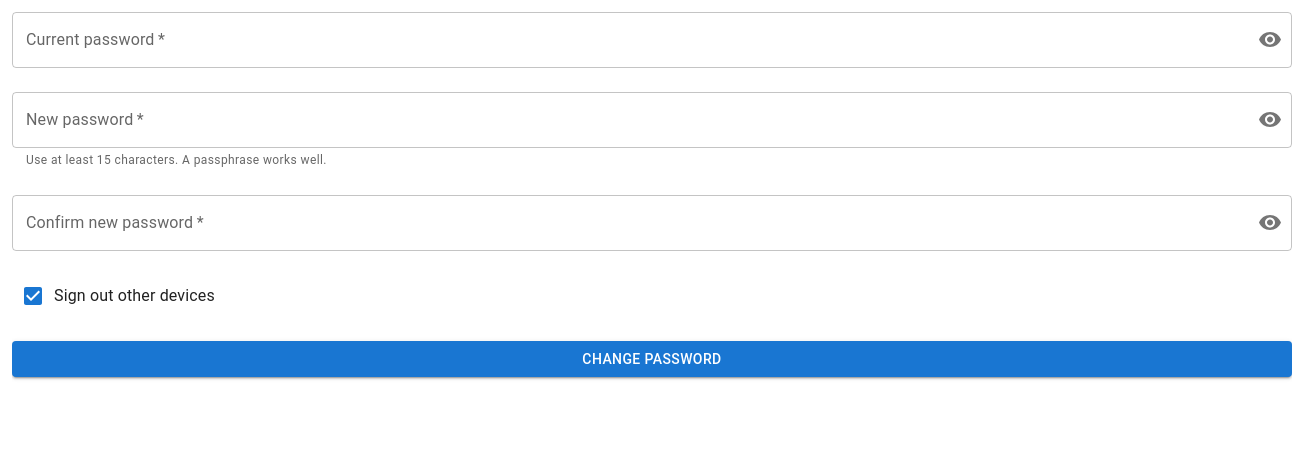
Test: customer change-password form › lets the customer retain other sessions and blocks mismatched confirmation
Click the checkbox labelled "Sign out other devices" at x=118, y=296, box [21, 284, 215, 308]
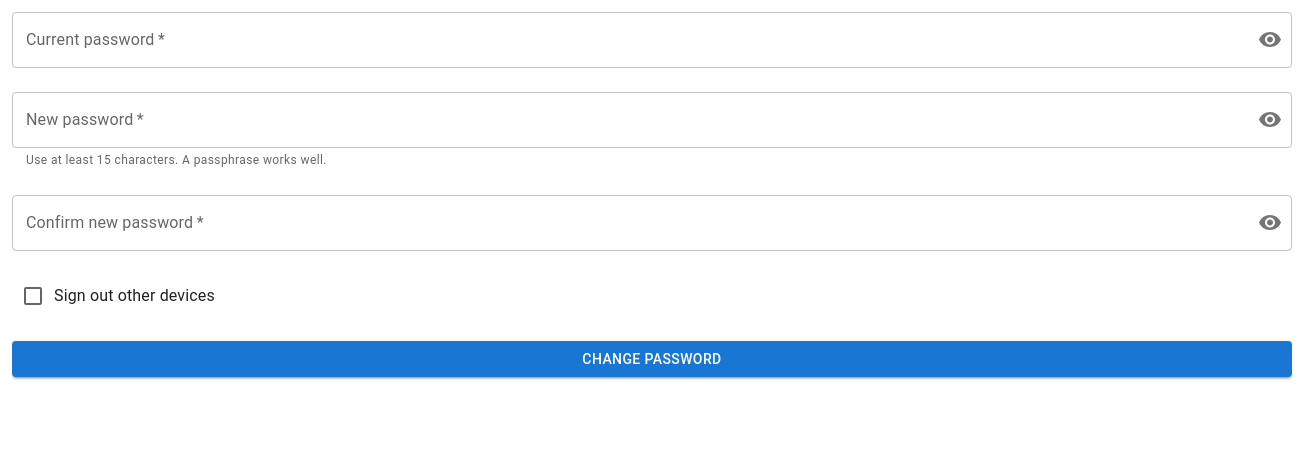
Type "A strong customer passphrase 2026" into the password field labelled "Current password *" at x=627, y=40, box [12, 12, 1242, 68]
Type "A different secure passphrase 2026" into the password field labelled "New password *" at x=627, y=120, box [12, 92, 1242, 148]
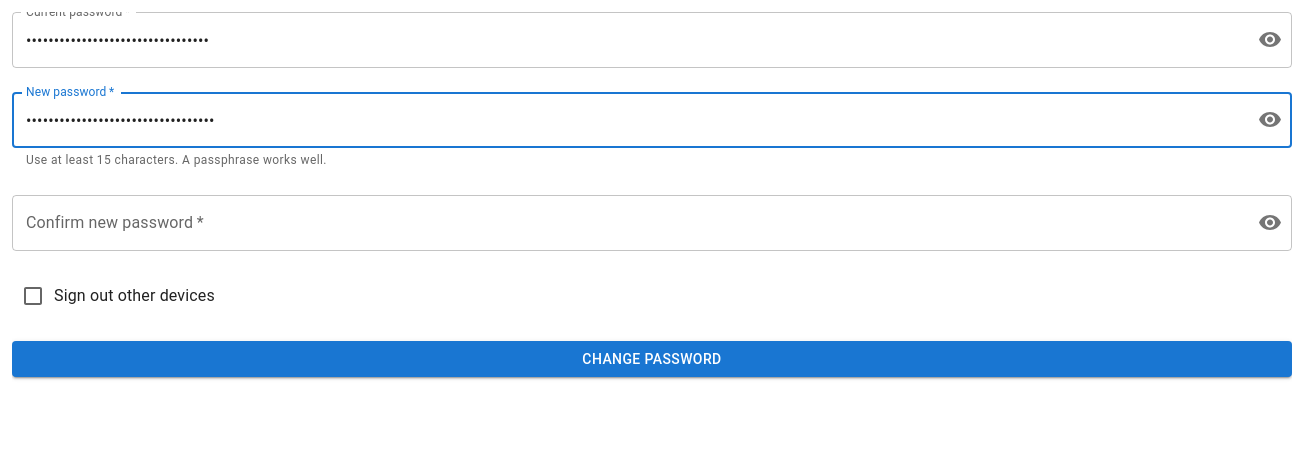
Type "A mismatched secure passphrase" into the password field labelled "Confirm new password *" at x=627, y=223, box [12, 195, 1242, 251]
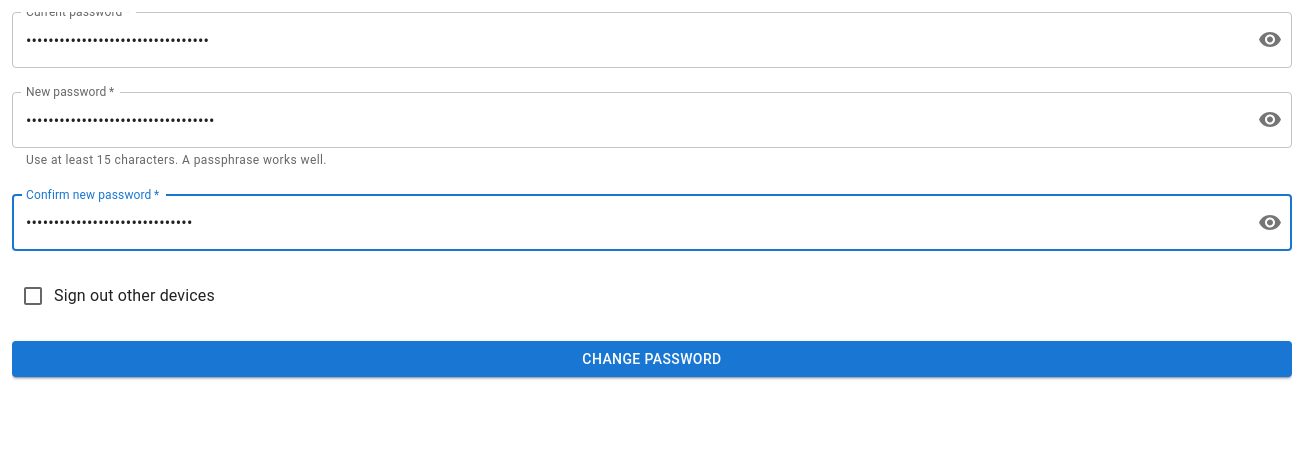
Click the button "Change password" at x=652, y=359, box [12, 341, 1292, 377]
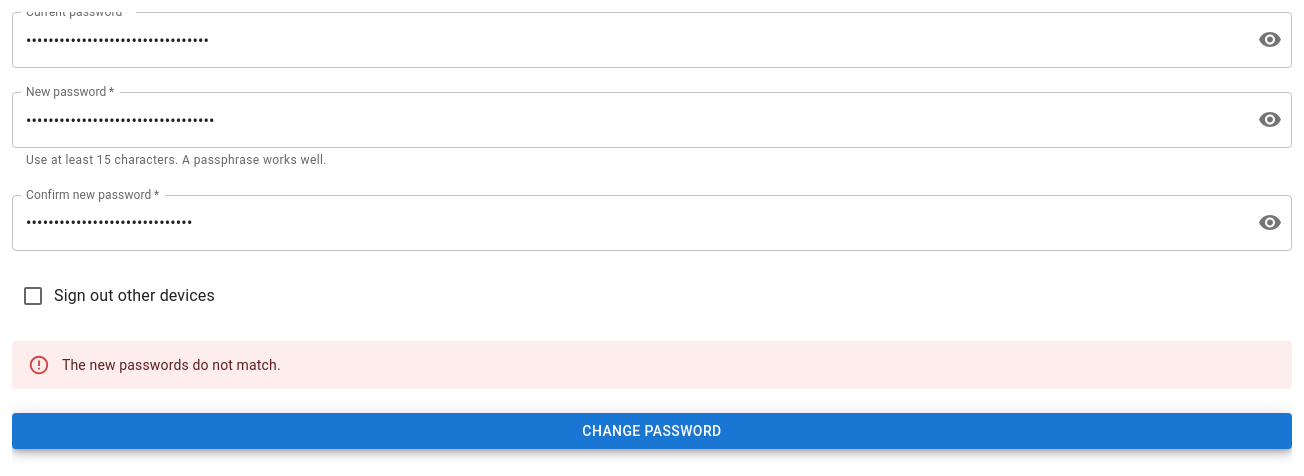
Check: the message shows "do not match", box [62, 357, 281, 373]
Type "A different secure passphrase 2026" into the password field labelled "Confirm new password *" at x=627, y=223, box [12, 195, 1242, 251]
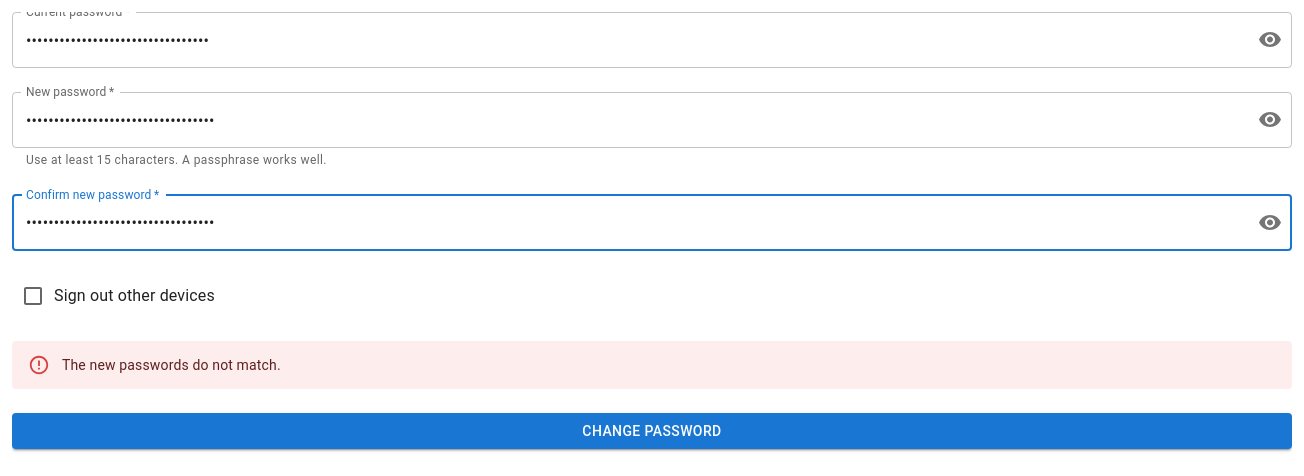
Click the button "Change password" at x=652, y=431, box [12, 413, 1292, 449]
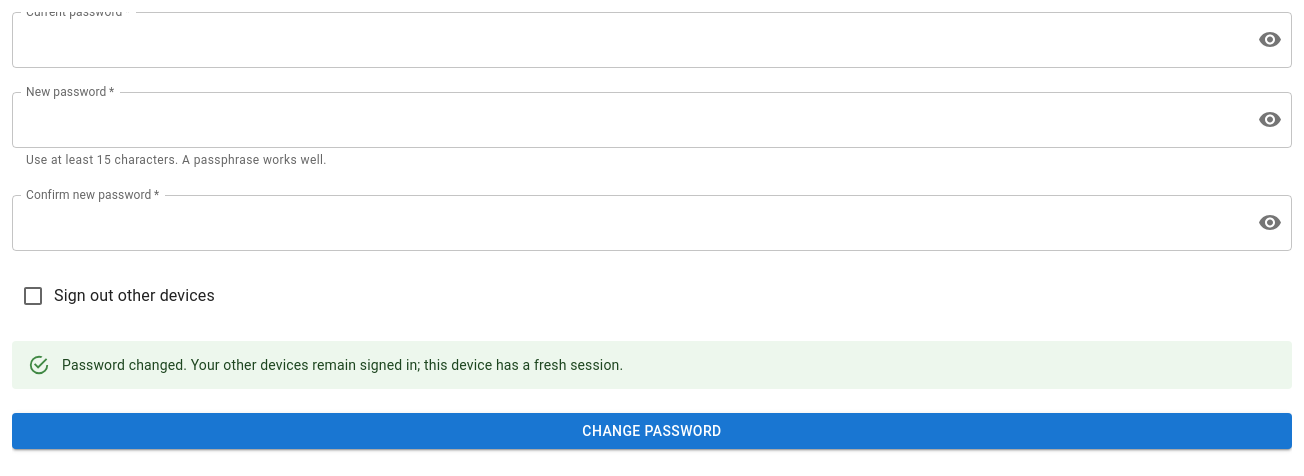
Check: the message shows "other devices remain signed in", box [62, 357, 623, 373]
